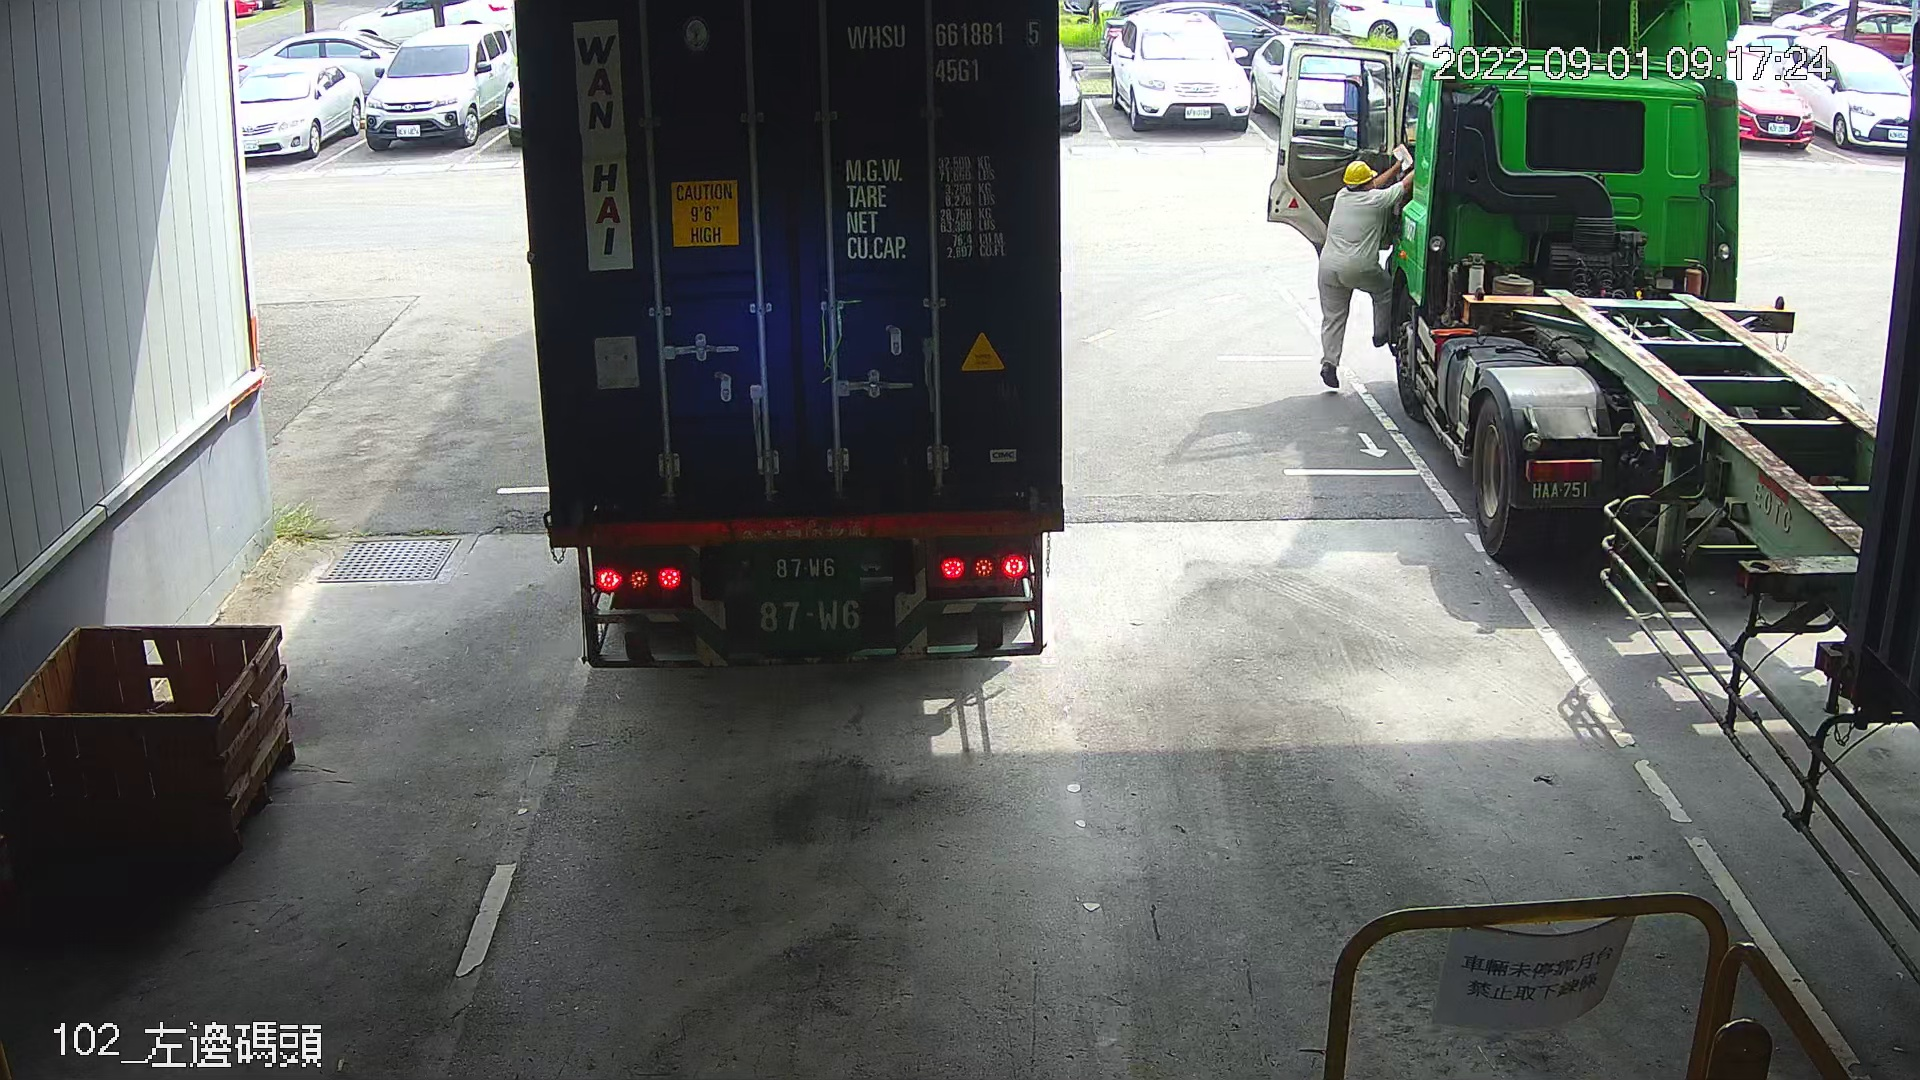container: (839, 13, 1050, 94)
